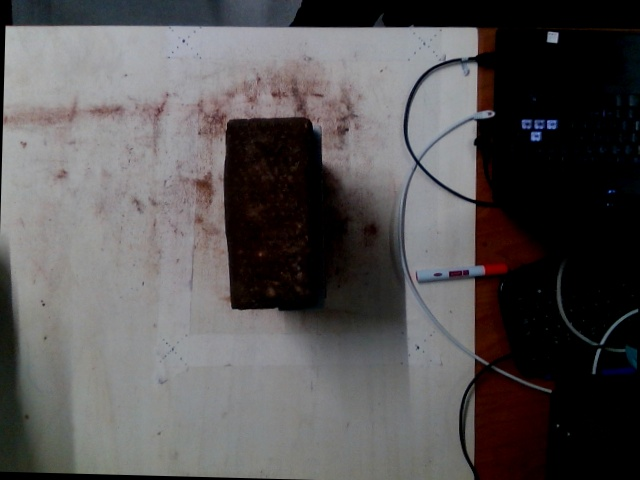brick: (230, 118, 304, 307)
